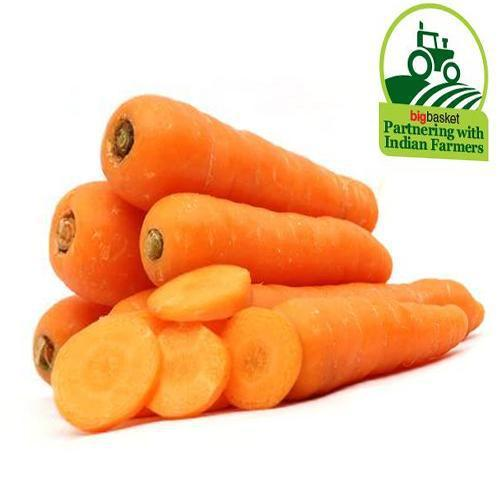carrot: (43, 164, 483, 417), (98, 102, 404, 297)
